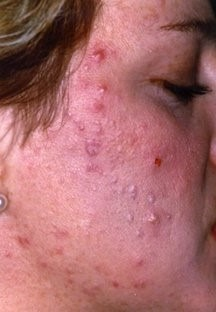Acne: (90, 45, 107, 65), (146, 207, 160, 229), (127, 182, 144, 199), (96, 82, 108, 98)
